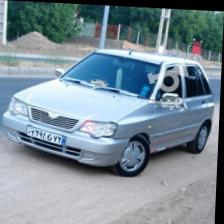plate: (27, 123, 68, 146)
